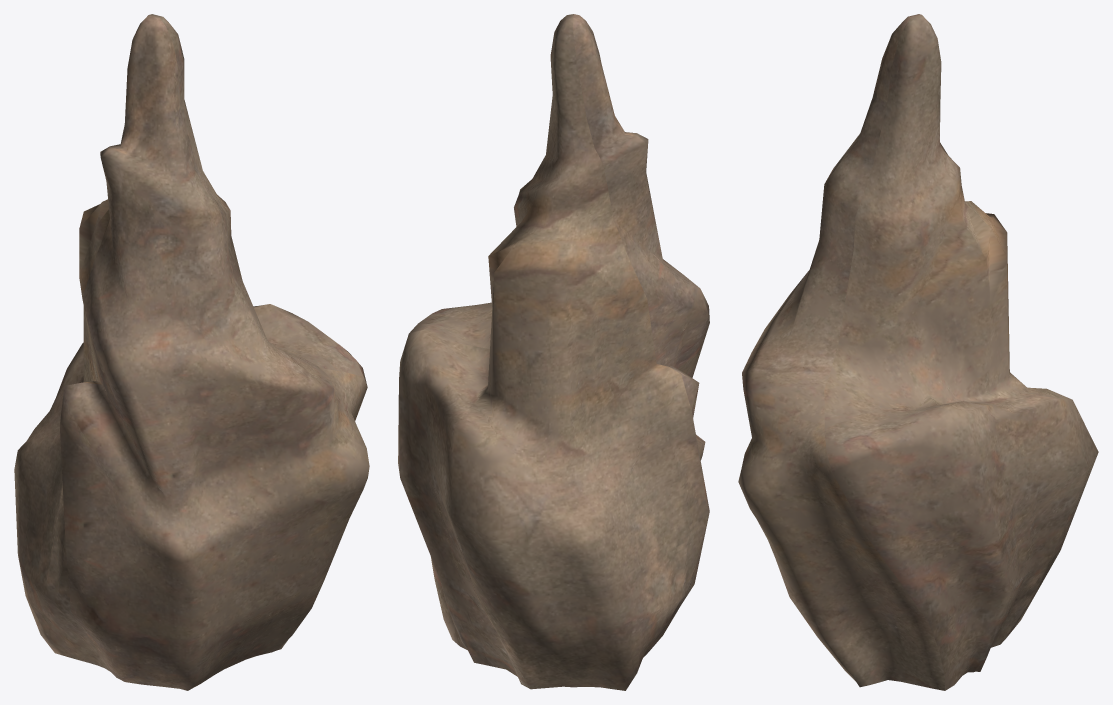
File: stallattite5 1.fbx
The picture shows the model from 3 angles, left to right: view 1: azimuth 30°, elevation 25°; view 2: azimuth 150°, elevation 25°; view 3: azimuth 270°, elevation 25°; orthographic projection. The views are drawn at different scales.
Parts seen in each view (by area): view 1: stallattite5; view 2: stallattite5; view 3: stallattite5.
Boxes of the visible parts, x1,y1,x2,y2 form: stallattite5: [14, 14, 369, 690]; stallattite5: [398, 14, 709, 690]; stallattite5: [738, 14, 1098, 690].
Bounding box in the file's own units: 12.87 × 27.26 × 14.27.
